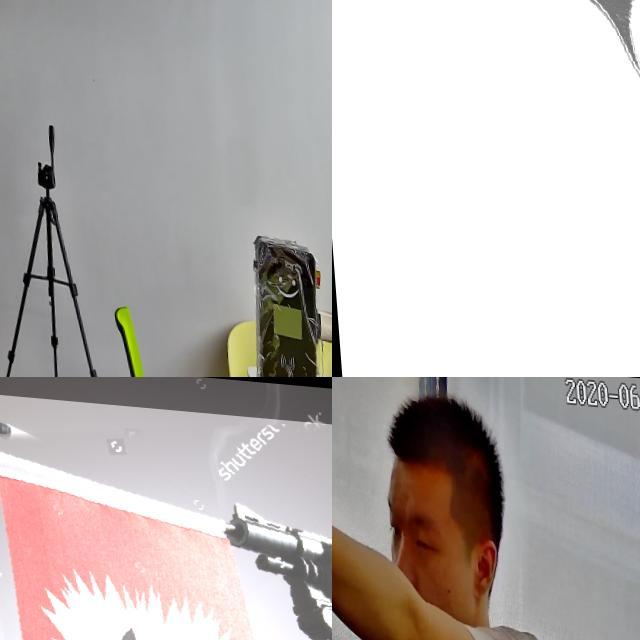gun-knife-thesis - v11 Yolov5 augmented: (332, 0, 640, 377), (0, 390, 332, 640), (332, 422, 387, 640), (0, 0, 21, 65)
